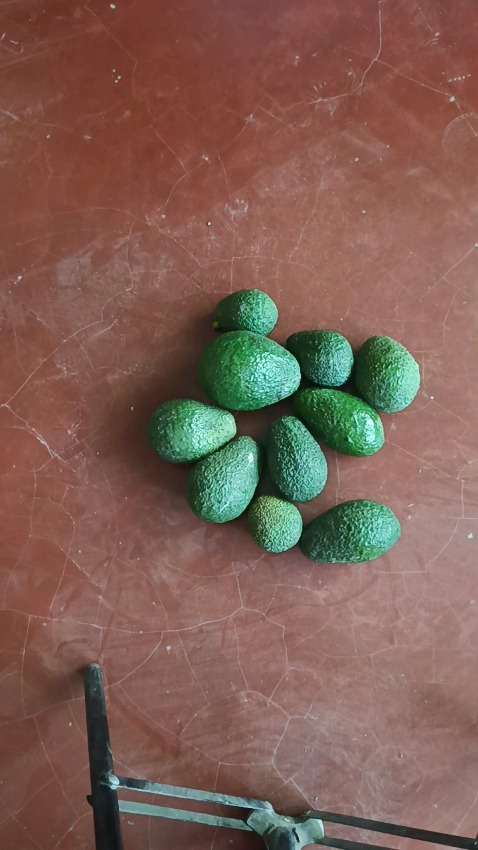Primera: (198, 331, 302, 411)
Segunda: (292, 386, 384, 458), (186, 435, 262, 522), (300, 499, 402, 563), (147, 398, 237, 464), (265, 415, 326, 501), (353, 335, 421, 412)
Tercera: (284, 329, 354, 388), (245, 494, 302, 552), (211, 289, 278, 337)
